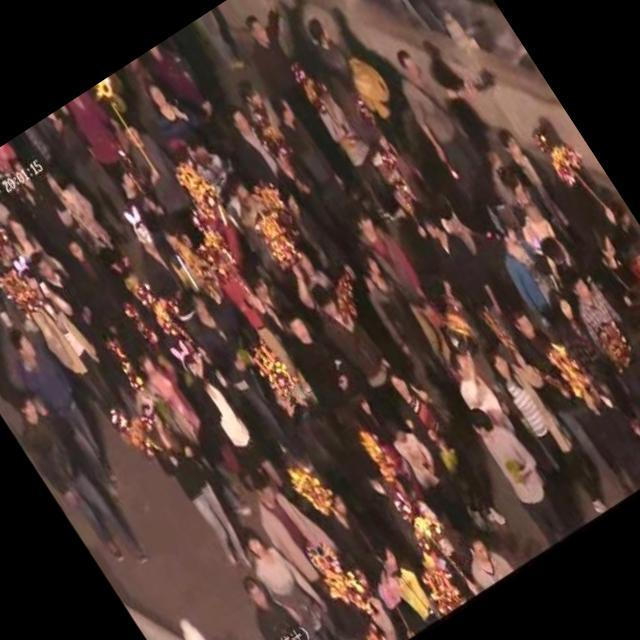person: (0, 376, 160, 583), (125, 336, 268, 528), (375, 356, 517, 543), (172, 270, 314, 456), (0, 254, 139, 444), (0, 318, 139, 505), (479, 336, 619, 521), (123, 394, 260, 576), (212, 98, 342, 271), (160, 330, 292, 494), (375, 39, 504, 204), (342, 246, 468, 412), (23, 242, 146, 406), (346, 199, 466, 358), (260, 84, 378, 243), (276, 294, 396, 445), (464, 394, 578, 546), (233, 512, 367, 640), (35, 102, 152, 248), (373, 403, 488, 551), (300, 266, 414, 409), (234, 457, 348, 599), (491, 118, 599, 266), (539, 282, 640, 427), (298, 2, 400, 123), (114, 110, 212, 234), (56, 227, 154, 350), (60, 86, 154, 200), (415, 202, 506, 319), (556, 261, 640, 381), (307, 542, 409, 640), (0, 147, 88, 257), (480, 210, 568, 318), (360, 532, 448, 638), (354, 435, 440, 539), (308, 480, 392, 586), (227, 0, 314, 98), (134, 65, 220, 164), (229, 565, 340, 640), (489, 162, 564, 256), (344, 0, 466, 49), (438, 343, 506, 427), (445, 522, 515, 598), (0, 181, 33, 331), (0, 251, 25, 405), (616, 283, 640, 439), (0, 163, 24, 234)
